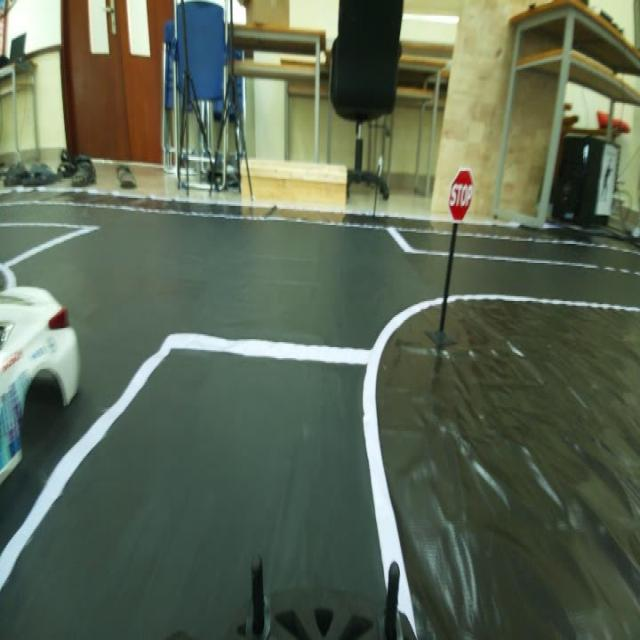car: (2, 279, 84, 450)
stop: (447, 166, 480, 232)
